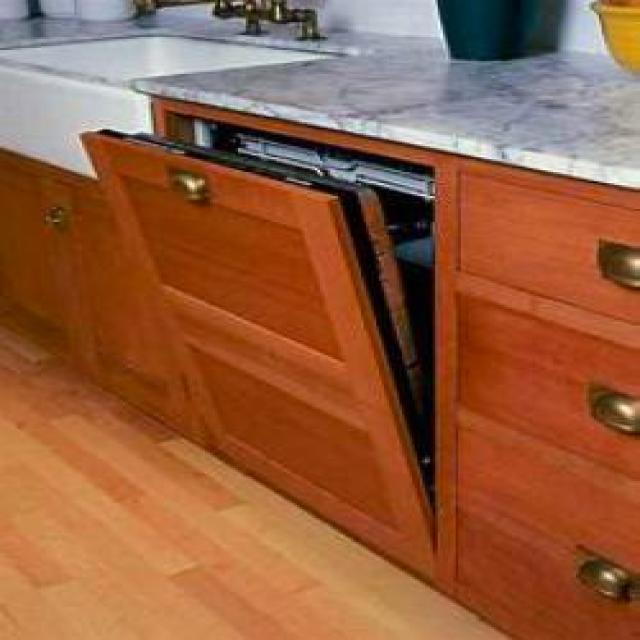dishwasher: (74, 96, 433, 575)
